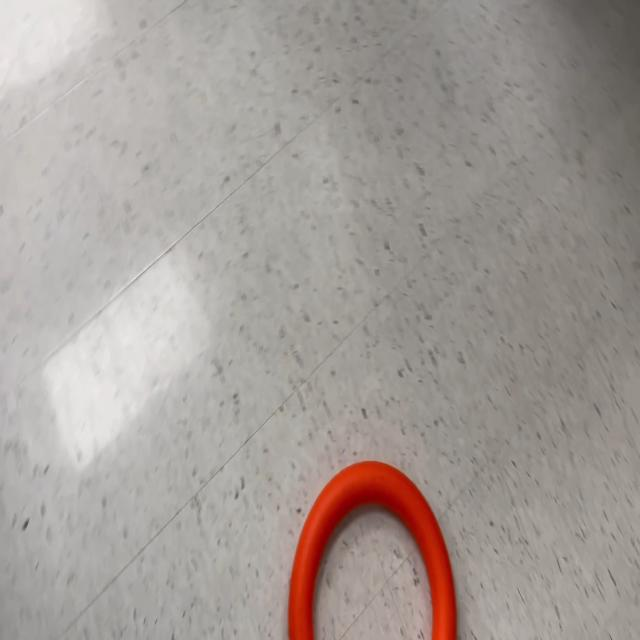note: (286, 457, 459, 640)
